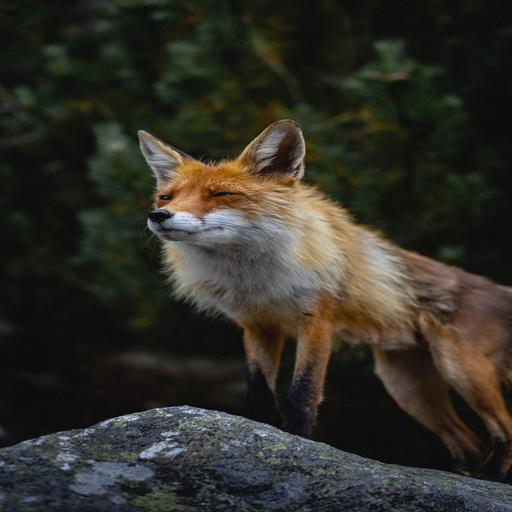Fox: (138, 117, 512, 482)
